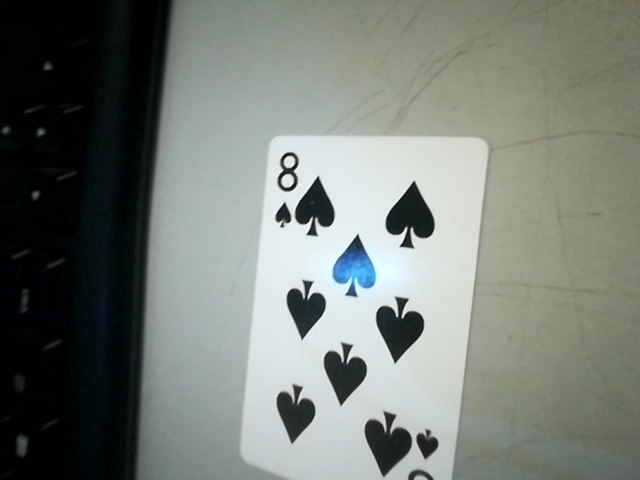ht 8: (262, 142, 308, 230)
